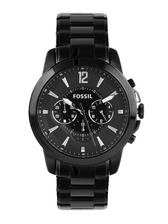watch: (24, 11, 147, 214)
